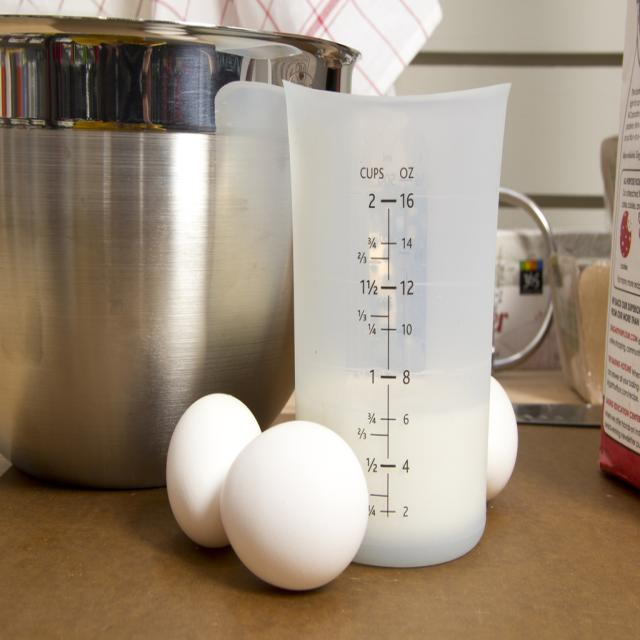Egg: (220, 418, 368, 588), (166, 392, 264, 546)
